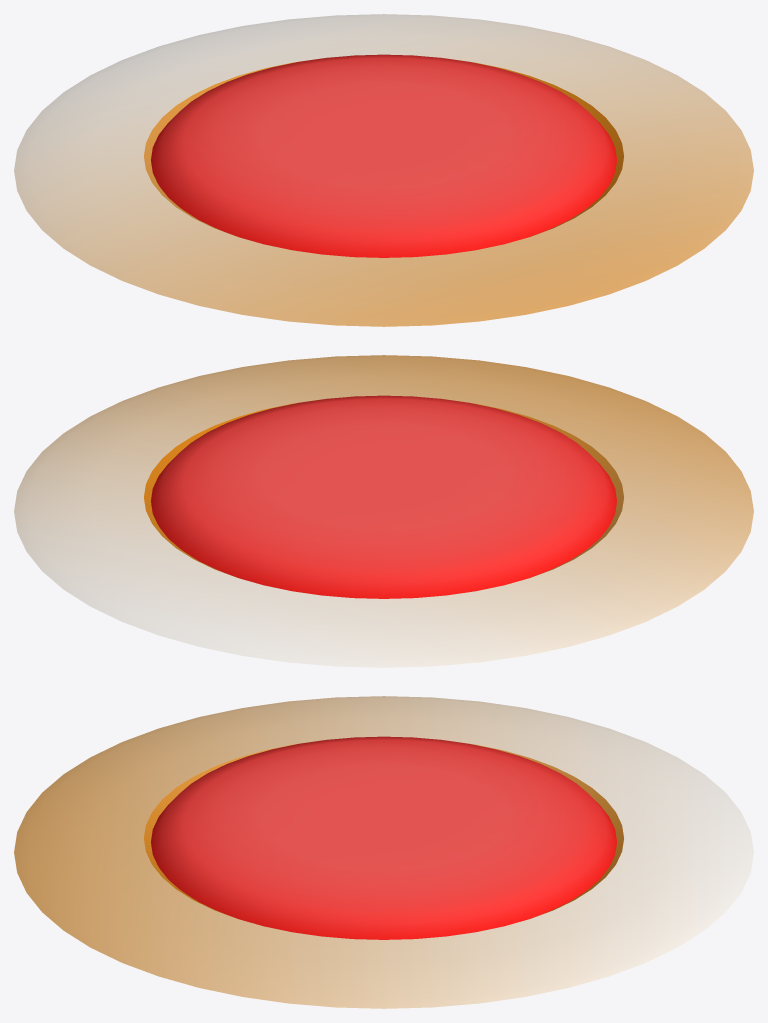
Rendered from Space_Platform.FBX.
3 renders of one model, top to bottom at view 1: azimuth 30°, elevation 25°; view 2: azimuth 150°, elevation 25°; view 3: azimuth 270°, elevation 25°, orthographic.
Visible parts, largest first — view 1: Button2, Button1; view 2: Button2, Button1; view 3: Button2, Button1.
Part boxes in pixels (left/top/right/bottom): Button2: left=14, top=14, right=753, bottom=326; Button1: left=151, top=54, right=616, bottom=257; Button2: left=14, top=355, right=753, bottom=667; Button1: left=151, top=395, right=616, bottom=598; Button2: left=14, top=696, right=753, bottom=1008; Button1: left=151, top=736, right=616, bottom=939.
Size of the model in its own units: 148 by 7.82 by 148.
